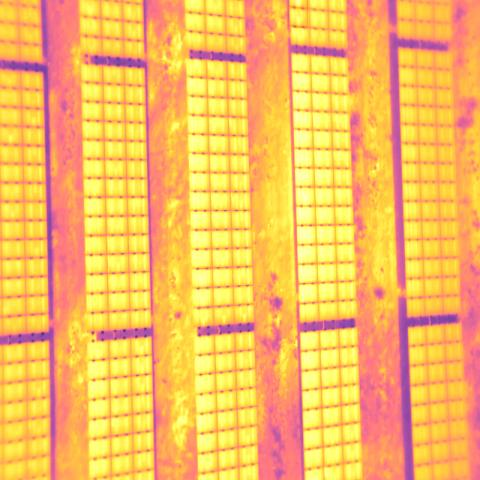fault: (289, 0, 308, 28)
